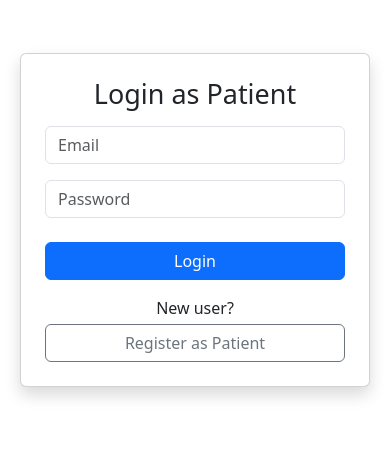
Test: LoginForm › handles login error
Type "wrong@example.com" into the field with placeholder "Email" at (195, 145), box [45, 126, 345, 164]
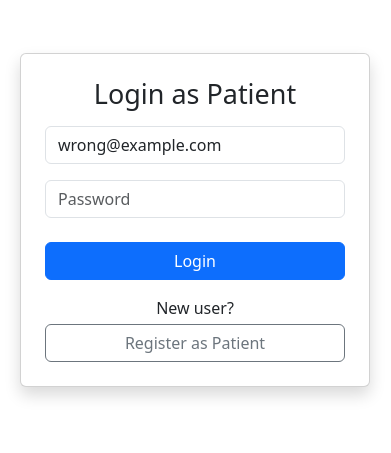
Type "wrongpassword" into the password field with placeholder "Password" at (195, 199), box [45, 180, 345, 218]
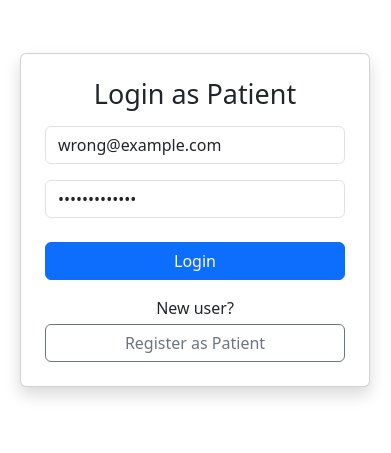
Click the button "Login" at (195, 261), box [45, 242, 345, 280]
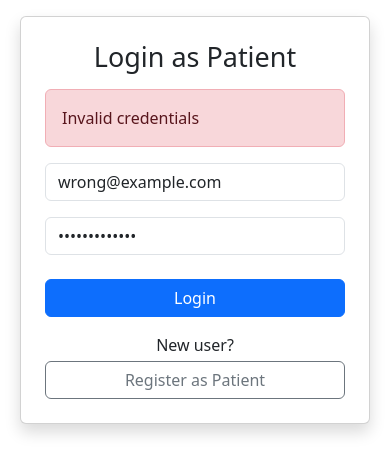
Now the text "Invalid credentials" is shown, box [45, 89, 345, 147]
